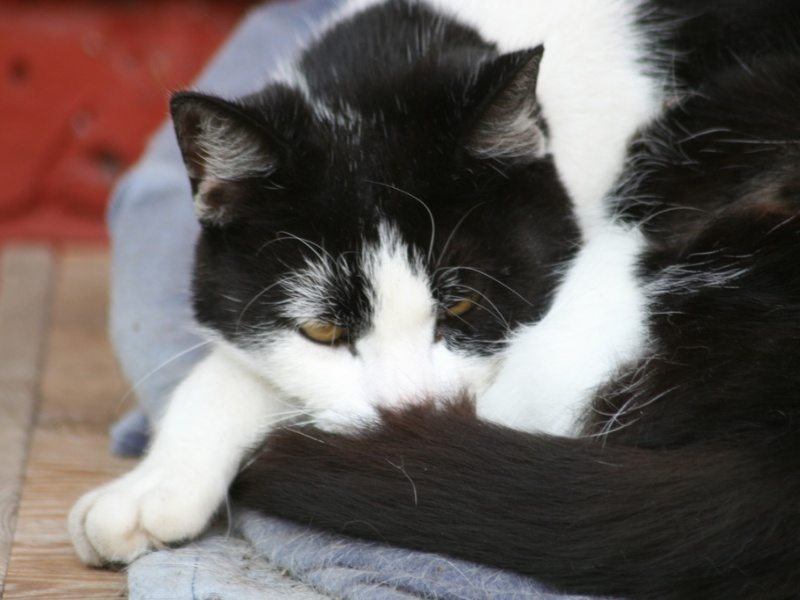cat: (69, 6, 799, 590)
